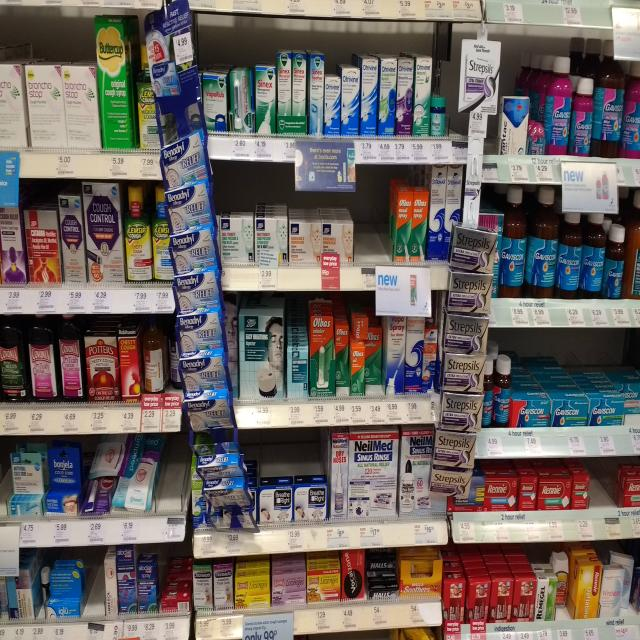unorganised: (229, 66, 255, 135), (143, 323, 164, 395), (334, 320, 352, 402), (367, 327, 386, 396), (553, 562, 571, 615)
